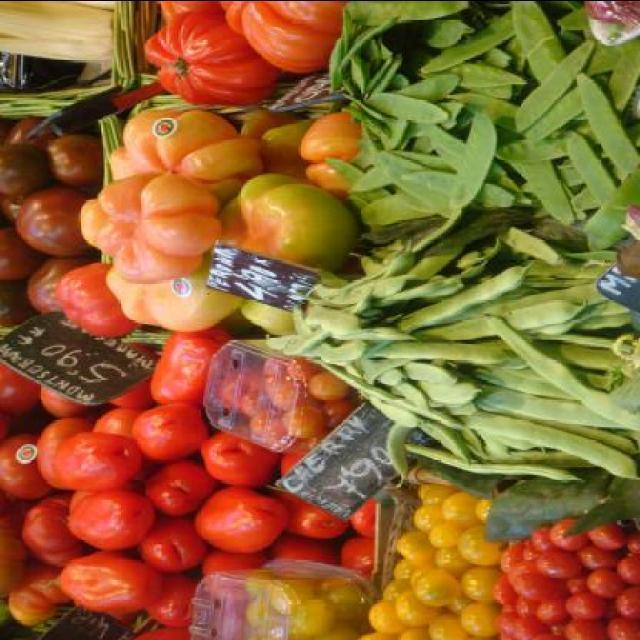Tomato: (0, 342, 377, 640), (78, 108, 354, 340), (492, 514, 640, 640), (146, 9, 284, 103), (223, 1, 340, 76), (174, 493, 276, 555)
